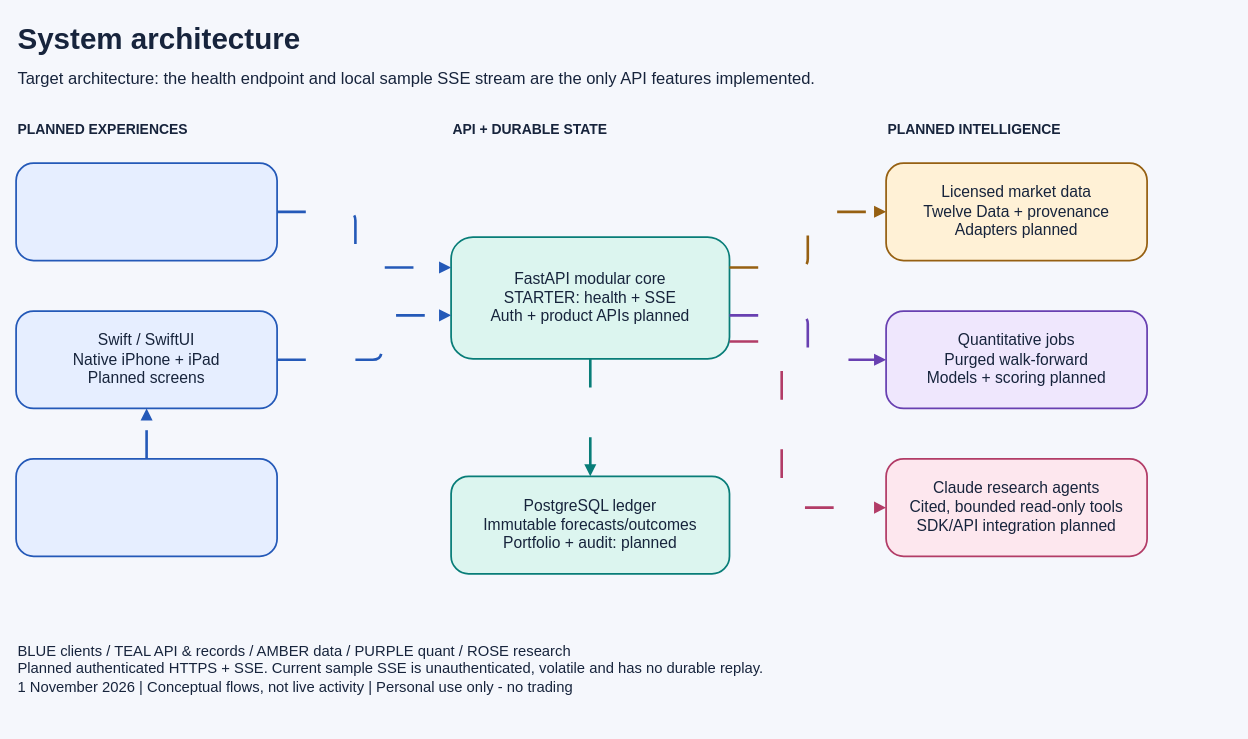
Image size: 1248x739. Some labels were removed from this diagram. Each missing label, with the centre of its shape:
React Native shell Navigation + typed bridge Planned integration: point (146, 507)
SvelteKit 3 PWA Research + portfolio Planned client: point (146, 211)
